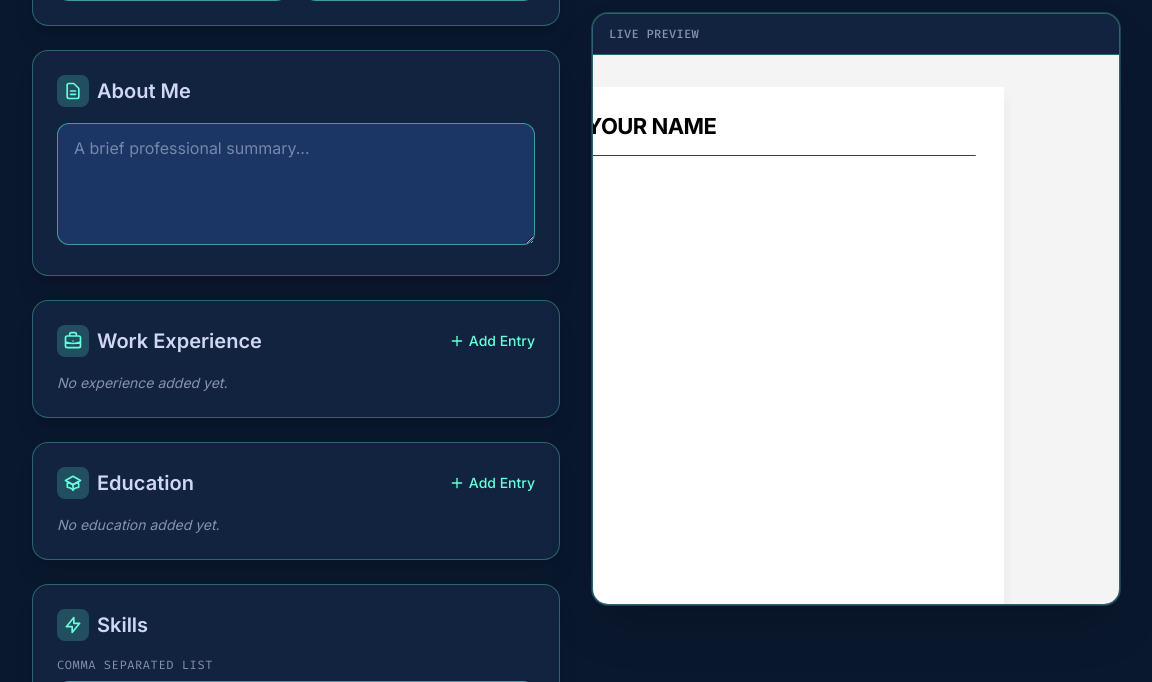
Scenario: CV Editor App › can add a new experience entry
(page scrolled)
expect the text "No experience added yet." is shown: met, box [57,374,228,391]
Click the button "Add Entry" in the row of "Work Experience" at point(492, 341), box [449,331,535,351]
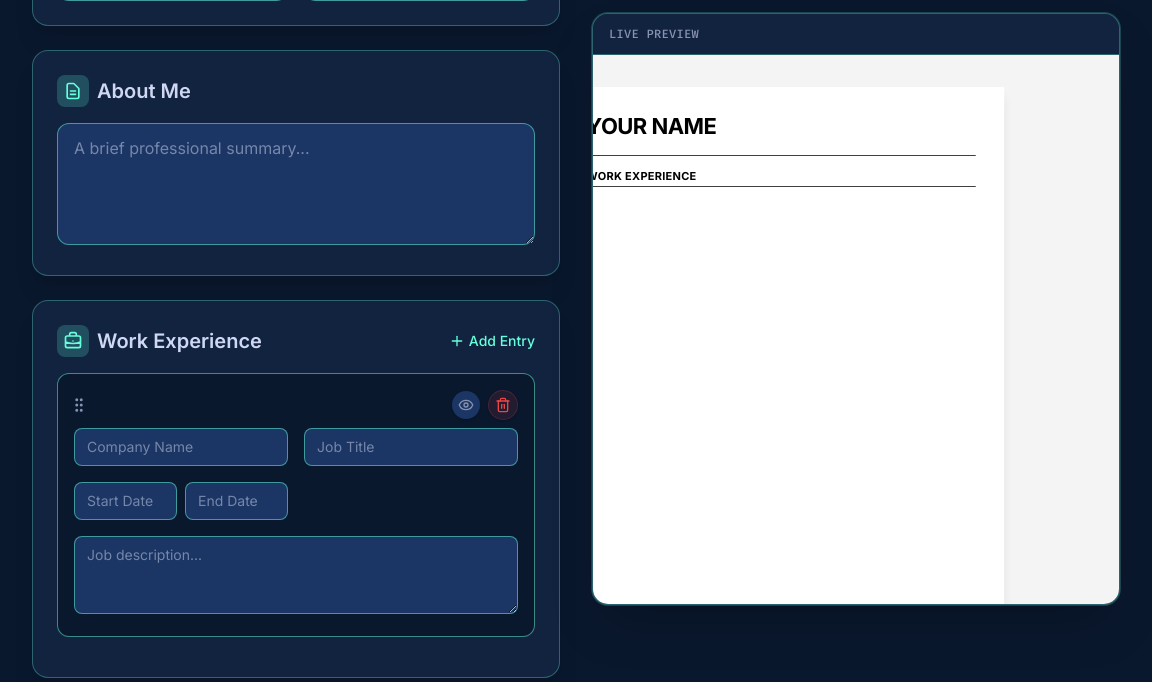
expect the number of fields with placeholder "Company Name" is 1: met, box [74,428,288,466]
expect the number of fields with placeholder "Job Title" is 1: met, box [304,428,518,466]
expect the text "No experience added yet." is gone: met
